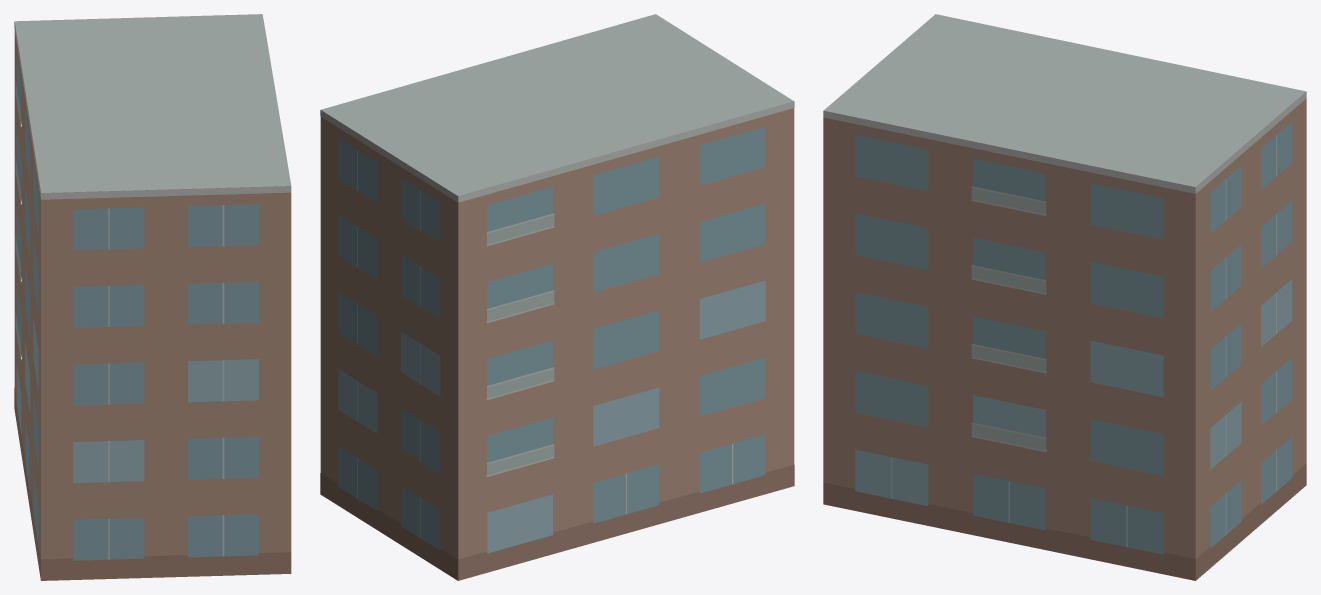
The model's file is survey-upis-32529870.glb.
3 views of the same model, side by side, from view 1: azimuth 30°, elevation 25°; view 2: azimuth 150°, elevation 25°; view 3: azimuth 270°, elevation 25° (orthographic). The views are drawn at different scales.
Parts seen in each view (by area): view 1: survey-upis-32529870.tmp; view 2: survey-upis-32529870.tmp; view 3: survey-upis-32529870.tmp.
Boxes of the visible parts, x1=… form: survey-upis-32529870.tmp: x1=14, y1=14, x2=291, y2=580; survey-upis-32529870.tmp: x1=320, y1=14, x2=794, y2=580; survey-upis-32529870.tmp: x1=823, y1=14, x2=1306, y2=580.
Bounding box in the file's own units: 13.41 × 14.2 × 15.81.
